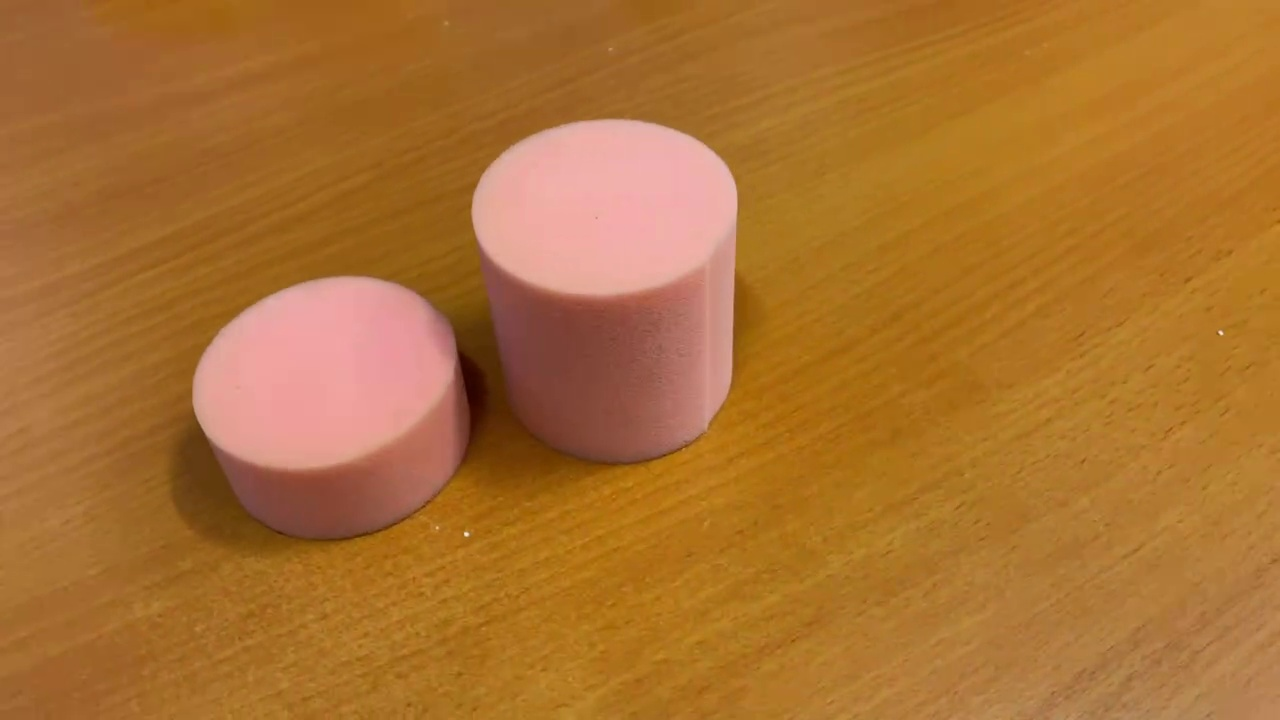Clyinder_short: (186, 270, 476, 540)
Cylinder: (463, 113, 749, 471)
